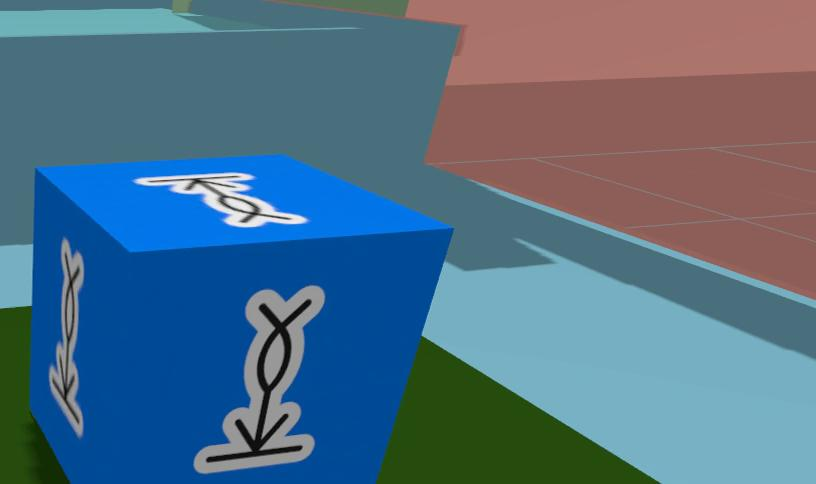KFS_REAL: (28, 155, 452, 484), (195, 286, 325, 473), (135, 173, 307, 226), (47, 238, 83, 436)
